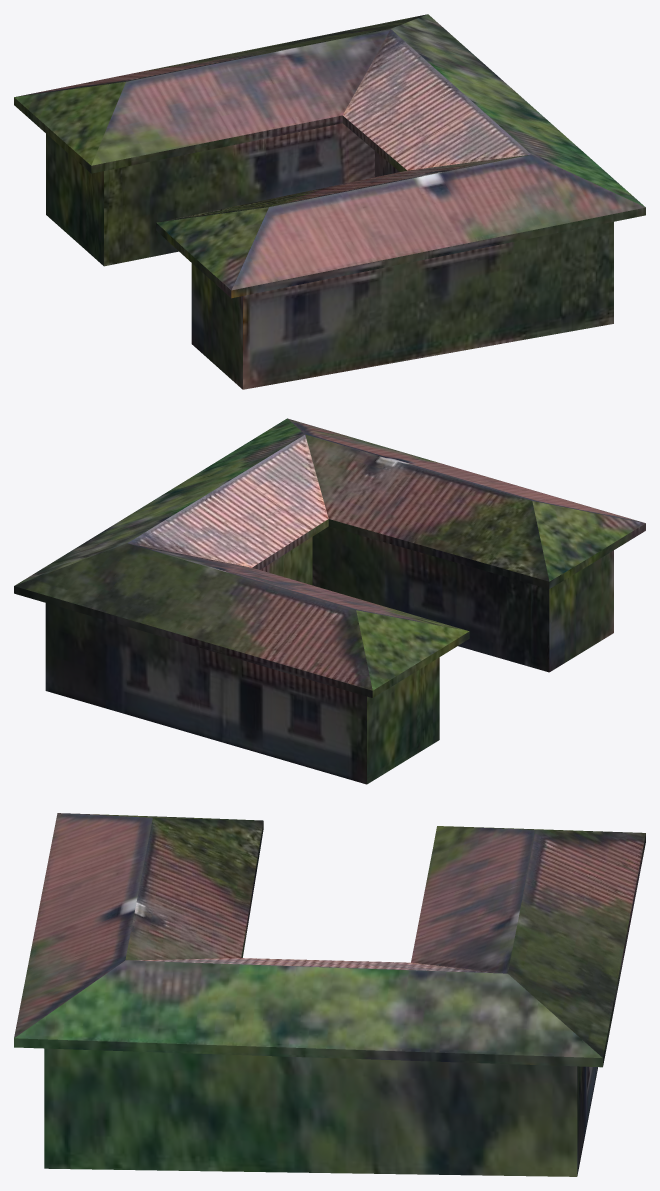
3 views of the same model, one above another, from view 1: azimuth 30°, elevation 25°; view 2: azimuth 150°, elevation 25°; view 3: azimuth 270°, elevation 25° (orthographic). The views are drawn at different scales.
Visible parts, largest first — view 1: B282724034001062A0; view 2: B282724034001062A0; view 3: B282724034001062A0.
Part boxes in pixels (x1=…): B282724034001062A0: x1=14, y1=14, x2=645, y2=389; B282724034001062A0: x1=14, y1=418, x2=645, y2=784; B282724034001062A0: x1=14, y1=813, x2=645, y2=1176.
Bounding box in the file's own units: 15.17 × 5.23 × 16.53.
Materials: 1 (1 with a texture image).
